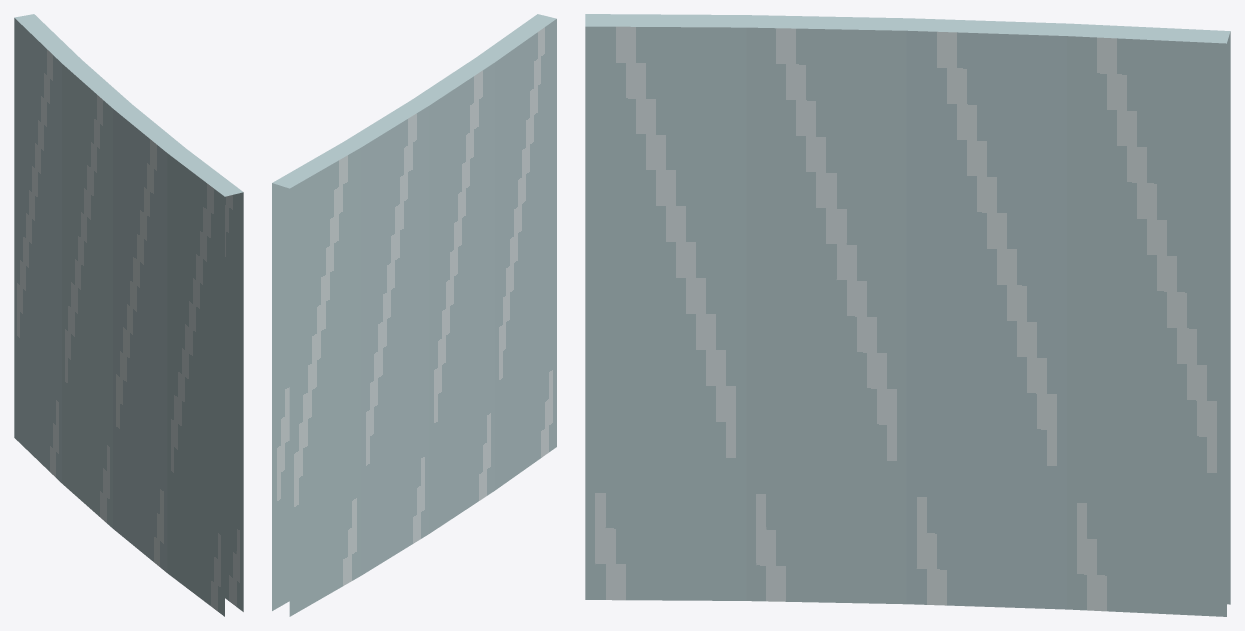
The model's file is curve_glass_00.obj.
The picture shows the model from 3 angles, left to right: view 1: azimuth 30°, elevation 25°; view 2: azimuth 150°, elevation 25°; view 3: azimuth 270°, elevation 25°; orthographic projection. The views are drawn at different scales.
Parts seen in each view (by area): view 1: curve_glass_00; view 2: curve_glass_00; view 3: curve_glass_00.
Boxes of the visible parts, <box> form: curve_glass_00: <box>14,14,243,616</box>; curve_glass_00: <box>272,14,556,616</box>; curve_glass_00: <box>585,14,1230,616</box>.
Bounding box in the file's own units: 0.1105 × 1 × 1.02.
